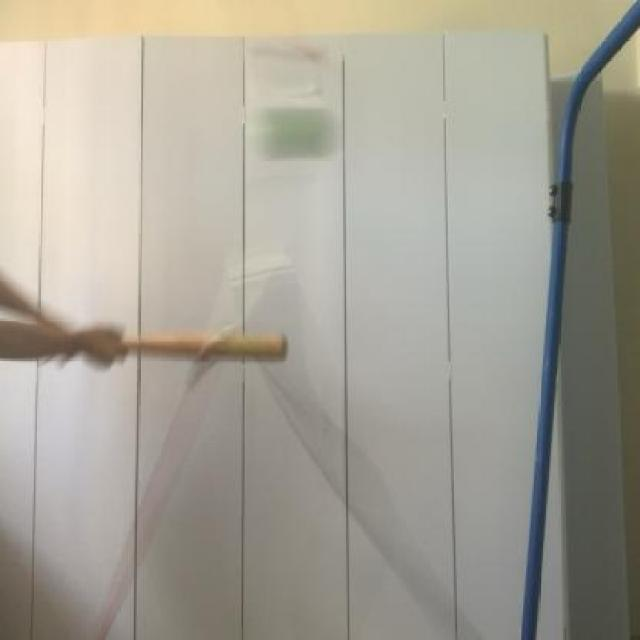baseball: (244, 91, 344, 177)
